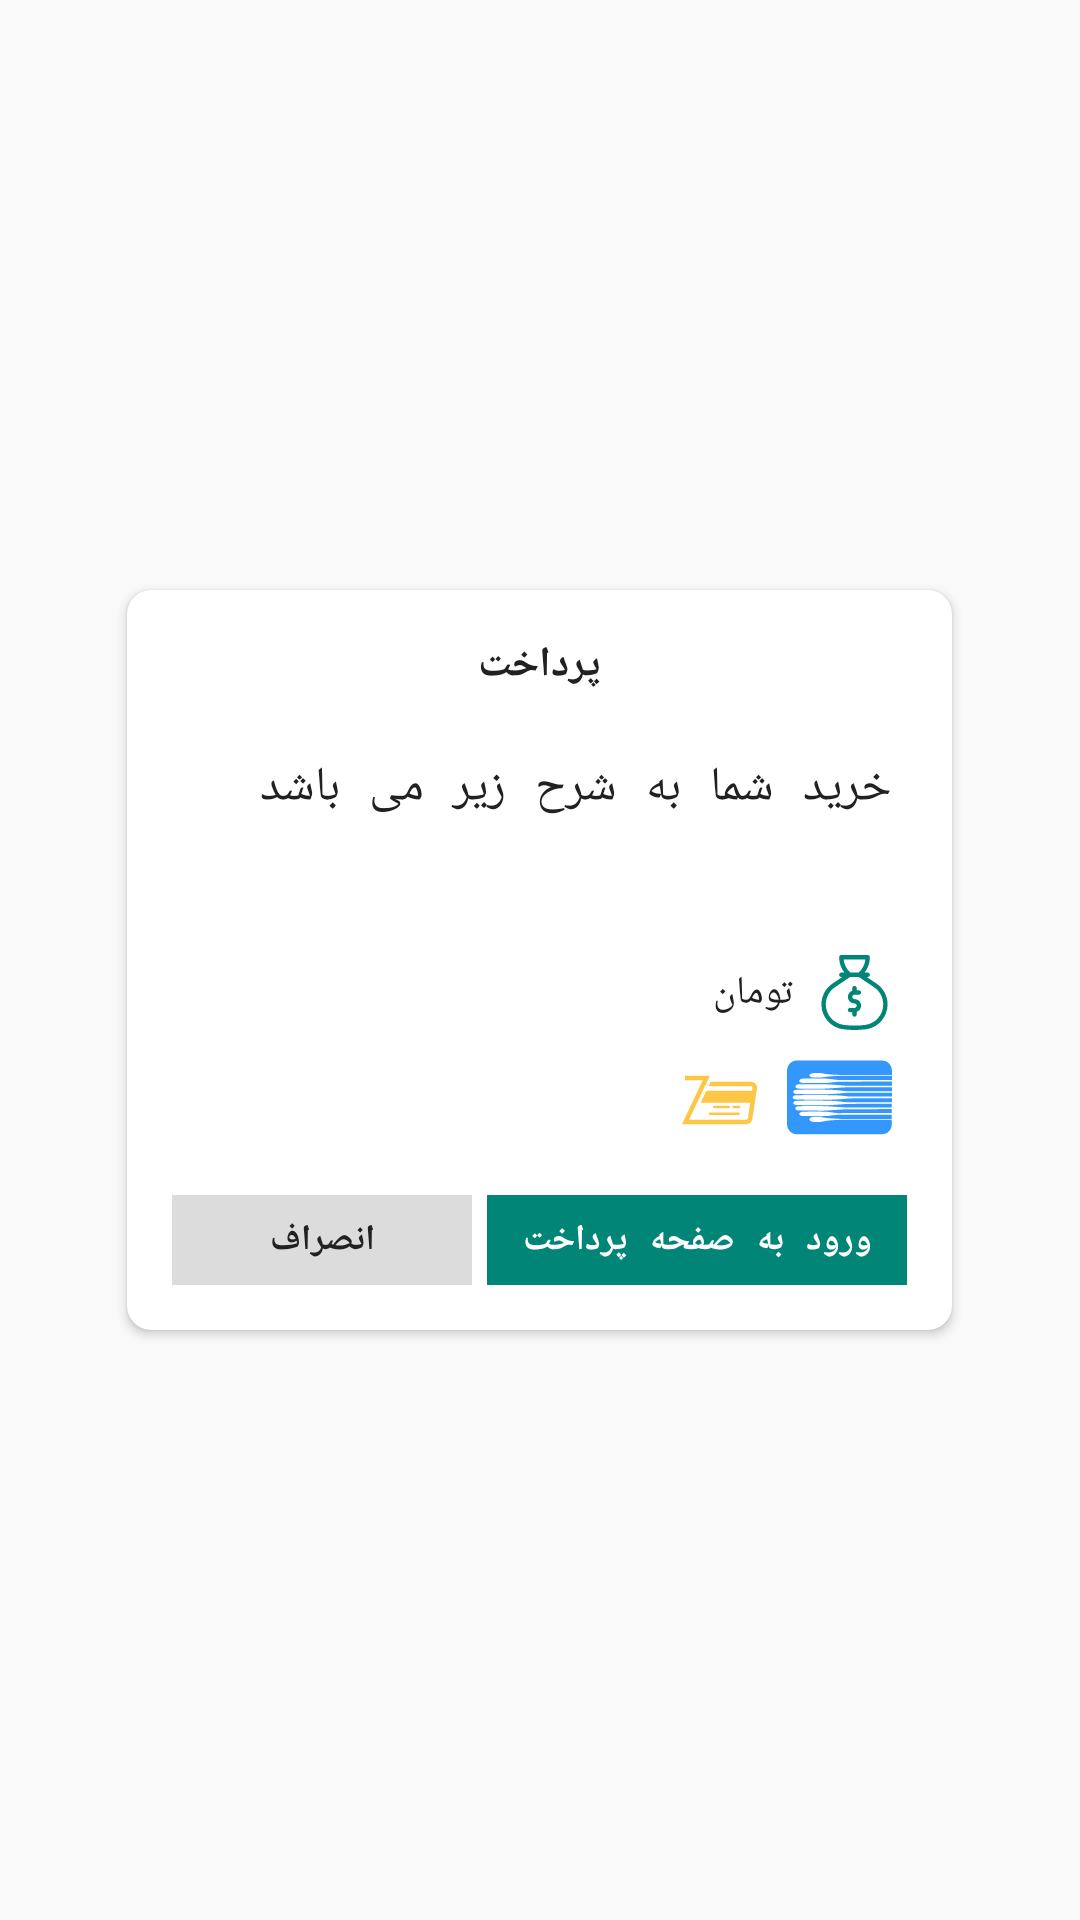

Point at icon controls on the screen. Image size 1080w x 1920h, points as (x=x, y=y).
money bag: (x=854, y=992)
